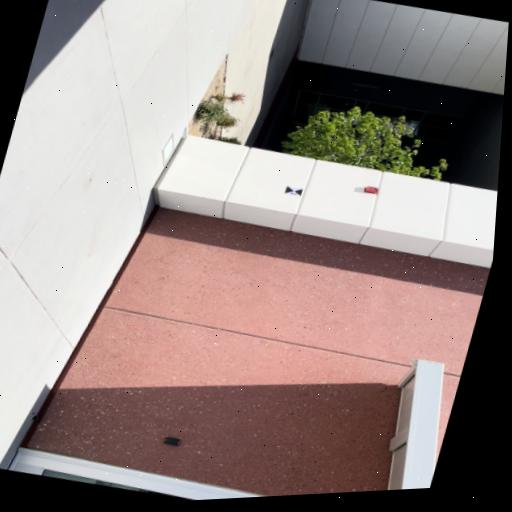target2: (283, 183, 303, 197)
